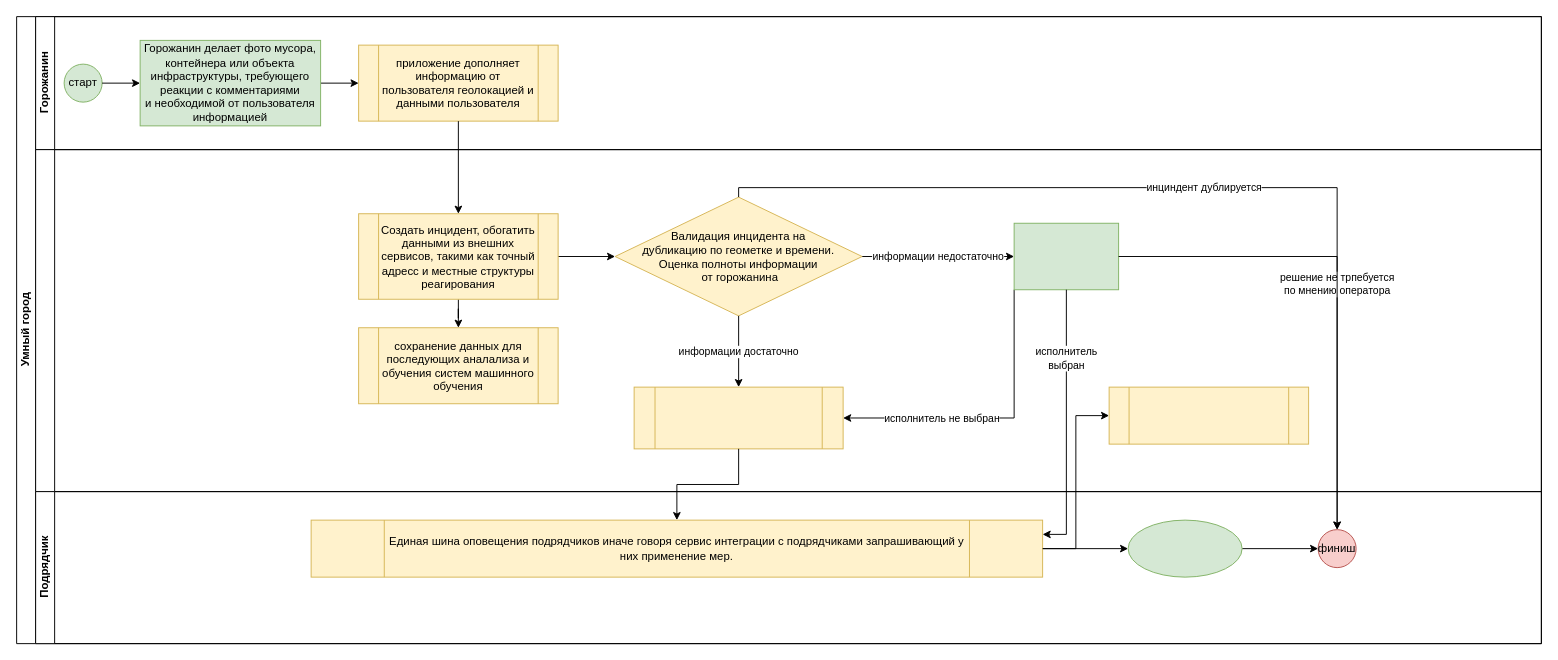
Some shapes in this 1558 by 660 pixel diagram are drawn without their labels. The box of each missing label's shape, as (x1, y1, x2, y2) in pixels:
Выбрать исполнителя: (633, 386, 843, 449)
Исполнение инцидента: (1127, 519, 1242, 577)
Оператор разрешает спорный инцидент: (1013, 222, 1119, 290)
оповещение автора о назначении исполнителя и планируемых к применению мерах: (1108, 386, 1309, 444)
Центр обработки: (35, 149, 1541, 492)
